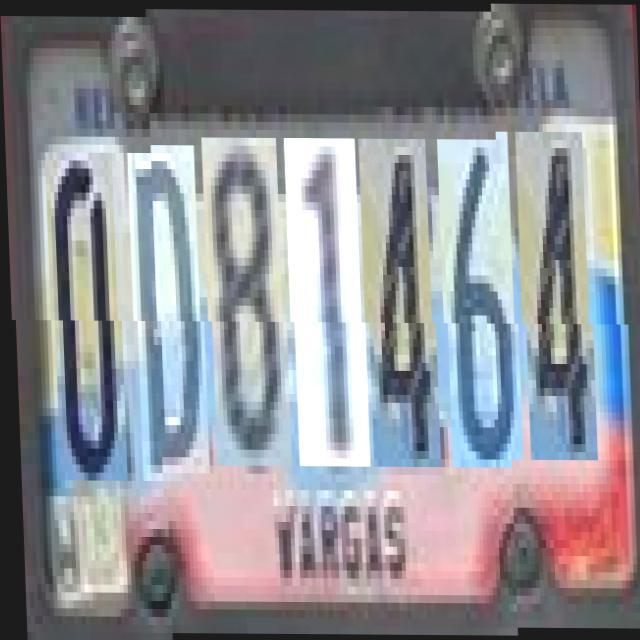0: (48, 145, 124, 472)
1: (286, 138, 366, 466)
4: (361, 138, 437, 466), (518, 139, 594, 467)
6: (440, 138, 520, 466)
8: (204, 138, 288, 466)
D: (130, 145, 206, 473)
